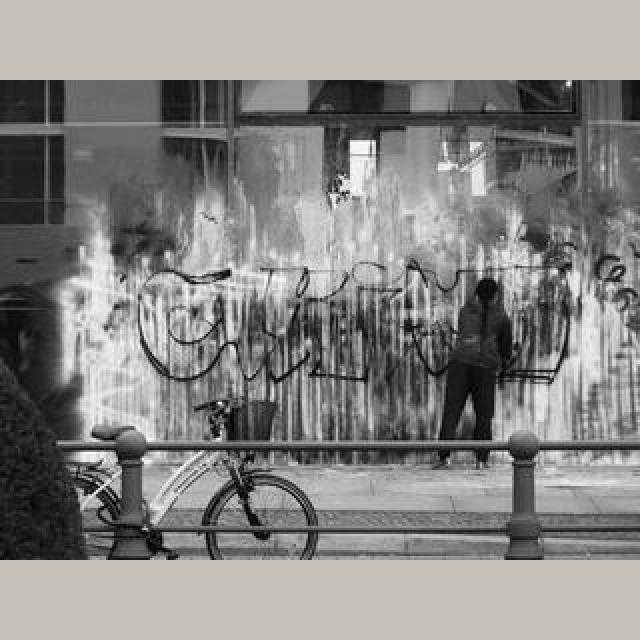MC-Bike: (434, 276, 514, 470)
Person: (78, 400, 320, 560)
